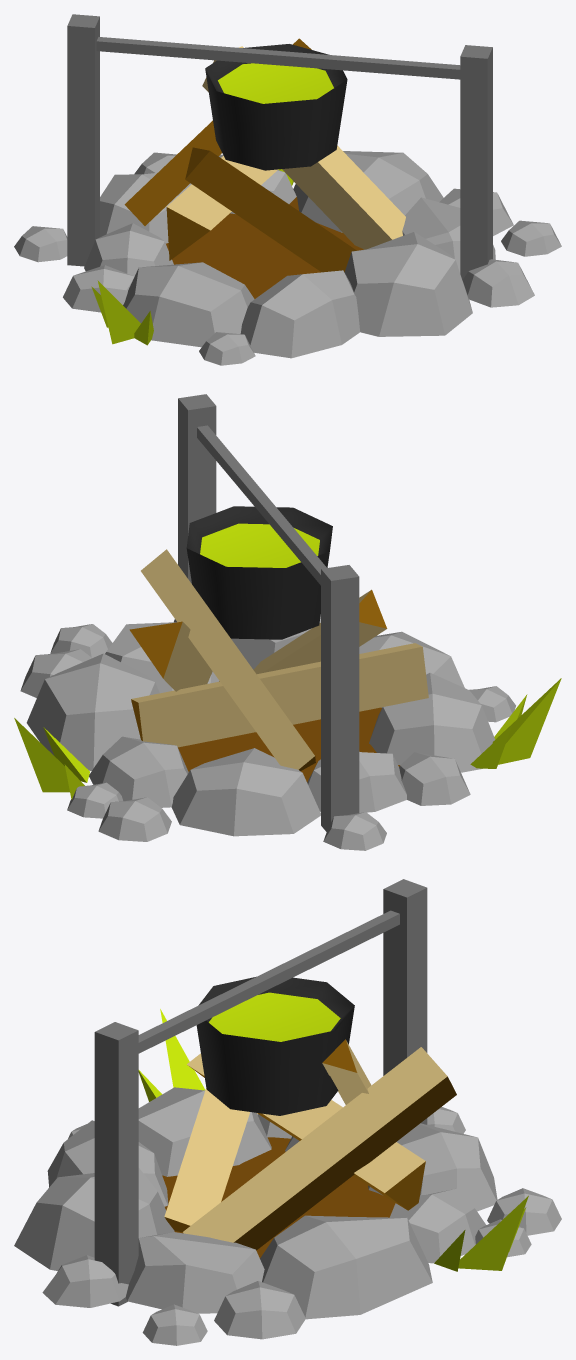
Rendered from bonfire.fbx.
The picture shows the model from 3 angles, top to bottom: view 1: azimuth 30°, elevation 25°; view 2: azimuth 150°, elevation 25°; view 3: azimuth 270°, elevation 25°; orthographic projection. The views are drawn at different scales.
Visible parts, largest first — view 1: bonfire; view 2: bonfire; view 3: bonfire.
Part boxes in pixels (x1,y1,x2,y2): bonfire: [14, 14, 561, 365]; bonfire: [14, 394, 561, 850]; bonfire: [14, 879, 561, 1345].
Size of the model in its own units: 386 by 195 by 353.
